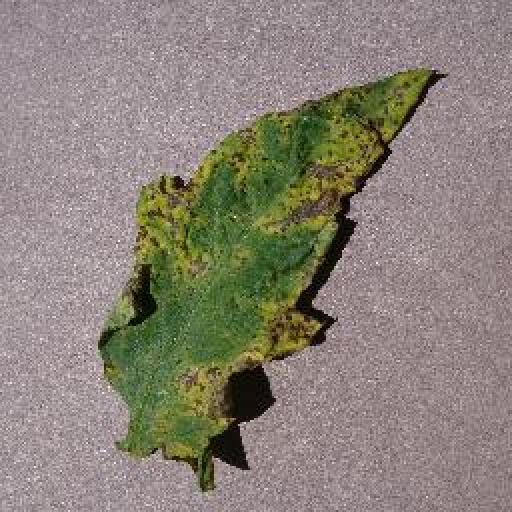disease_tomato: (102, 64, 440, 488)
